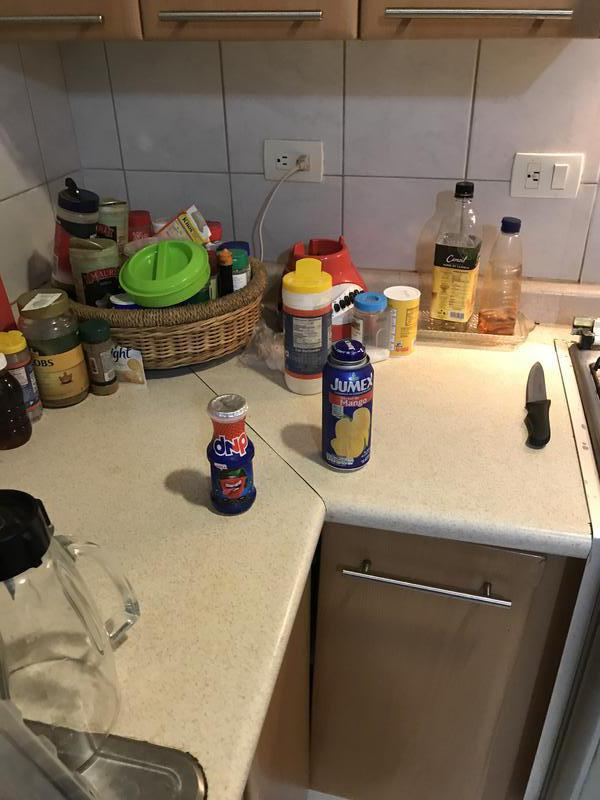danup: (206, 394, 260, 518)
jugo_jumex: (320, 339, 375, 474)
